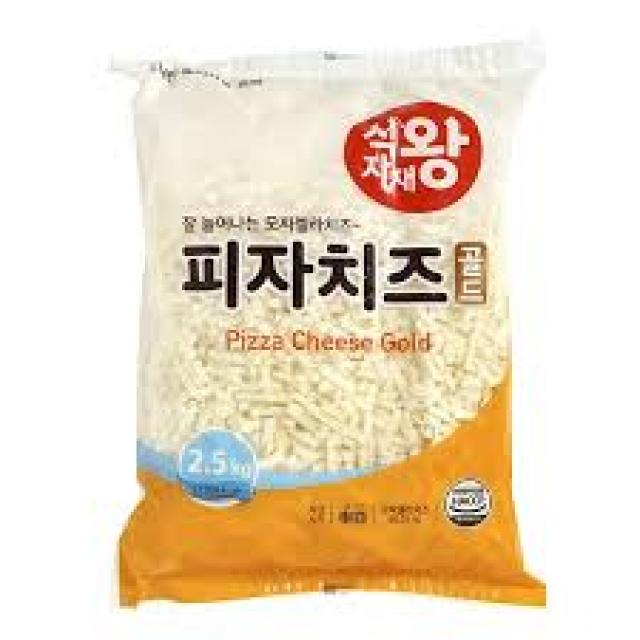cheese: (129, 69, 516, 580)
